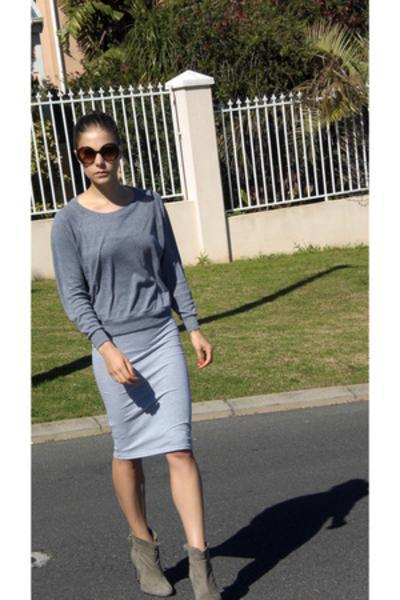dress: (48, 187, 196, 458)
shoe: (130, 536, 223, 599)
sunglass: (96, 132, 127, 168)
